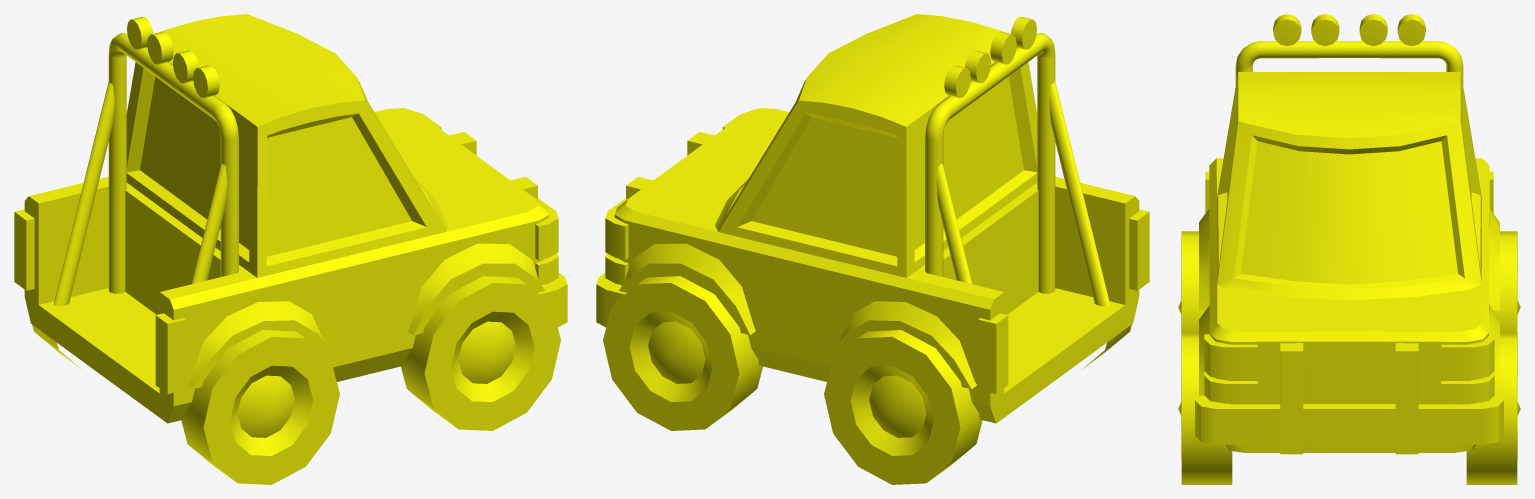
Rendered from parking_garage_car01.glb.
The picture shows the model from 3 angles, left to right: view 1: azimuth 30°, elevation 25°; view 2: azimuth 150°, elevation 25°; view 3: azimuth 270°, elevation 25°; orthographic projection. The views are drawn at different scales.
Parts seen in each view (by area): view 1: parking_garage_car01; view 2: parking_garage_car01; view 3: parking_garage_car01.
Part boxes in pixels (box(x1,y1,x2,y2)): parking_garage_car01: box(14, 14, 567, 484); parking_garage_car01: box(596, 14, 1149, 484); parking_garage_car01: box(1178, 14, 1520, 484).
Size of the model in its own units: 0.8895 by 0.7847 by 0.6839.
1 material, 1 textured.
